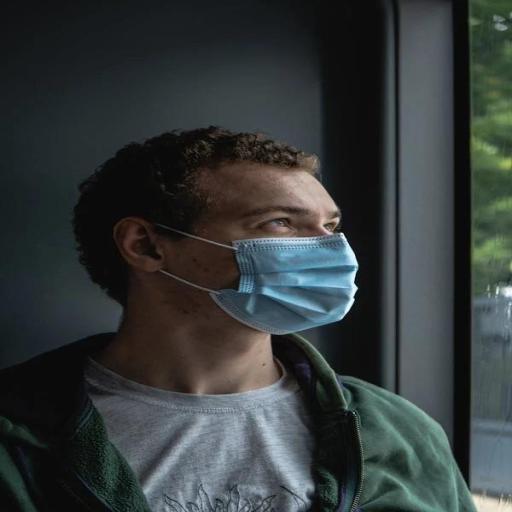mask: (96, 110, 395, 350)
